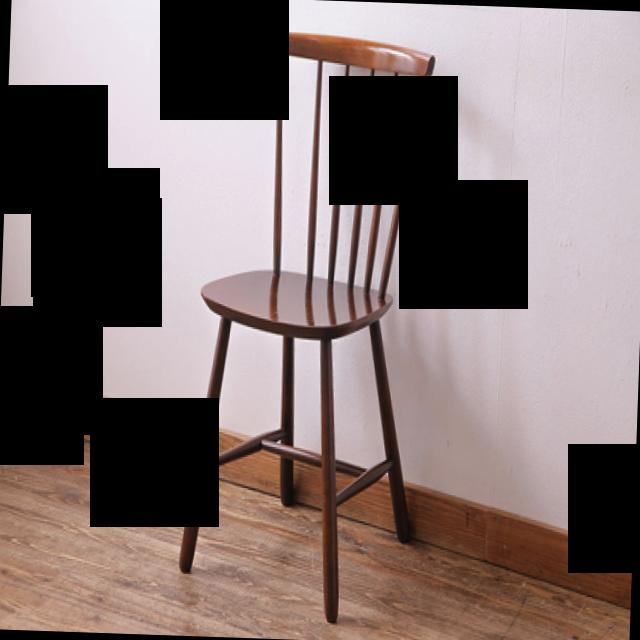chair vintage: (172, 22, 433, 628)
